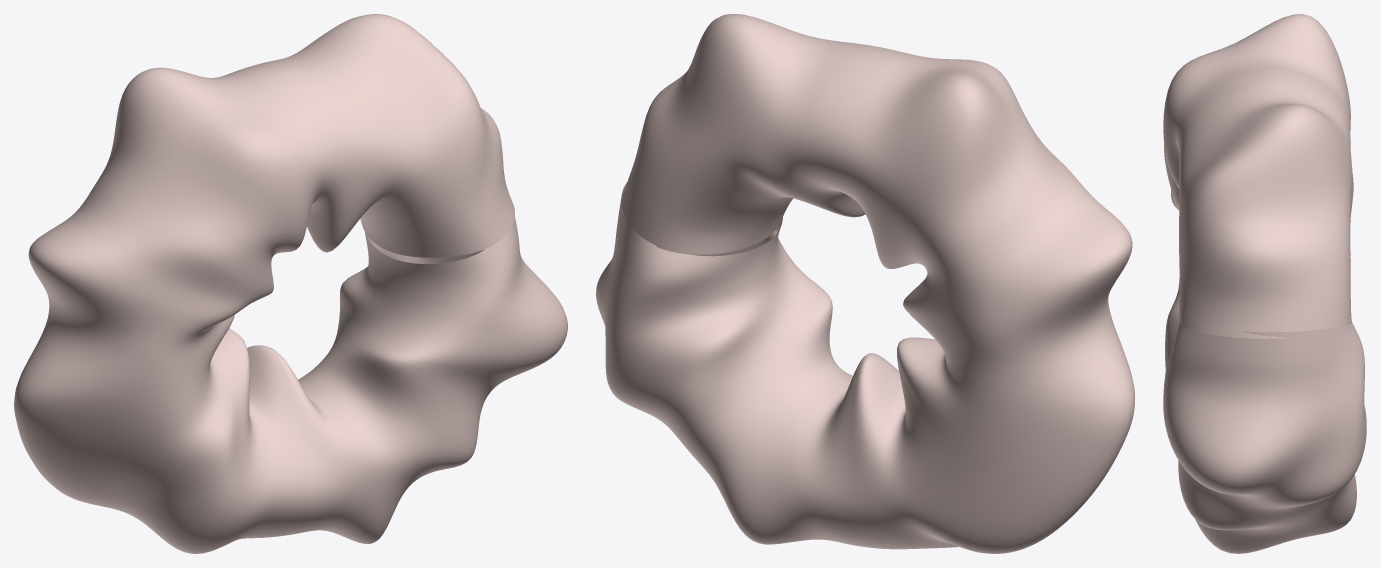
Rendered from form_5.glb.
3 renders of one model, left to right at view 1: azimuth 30°, elevation 25°; view 2: azimuth 150°, elevation 25°; view 3: azimuth 270°, elevation 25°, orthographic. The views are drawn at different scales.
Parts seen in each view (by area): view 1: Cube; view 2: Cube; view 3: Cube.
Part boxes in pixels (bbox=[...]): Cube: bbox=[14, 14, 567, 553]; Cube: bbox=[596, 14, 1134, 553]; Cube: bbox=[1163, 14, 1366, 553].
Bounding box in the file's own units: 15.45 × 13.95 × 5.58.
